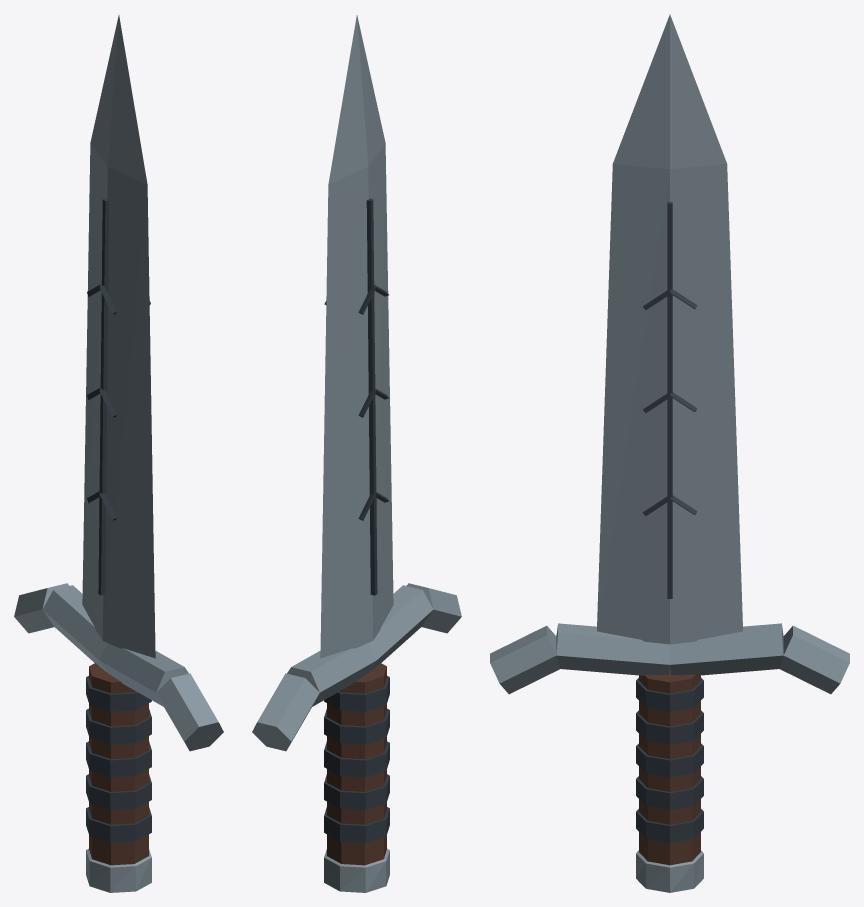
The model's file is sword_iron.glb.
3 renders of one model, left to right at view 1: azimuth 30°, elevation 25°; view 2: azimuth 150°, elevation 25°; view 3: azimuth 270°, elevation 25°, orthographic.
Visible parts, largest first — view 1: geometry; view 2: geometry; view 3: geometry.
Boxes of the visible parts, box(x1,y1,x2,y2) form: geometry: box(14, 15, 223, 892); geometry: box(252, 15, 461, 892); geometry: box(490, 14, 849, 892).
Size of the model in its own units: 0.066 by 0.937 by 0.3482.
